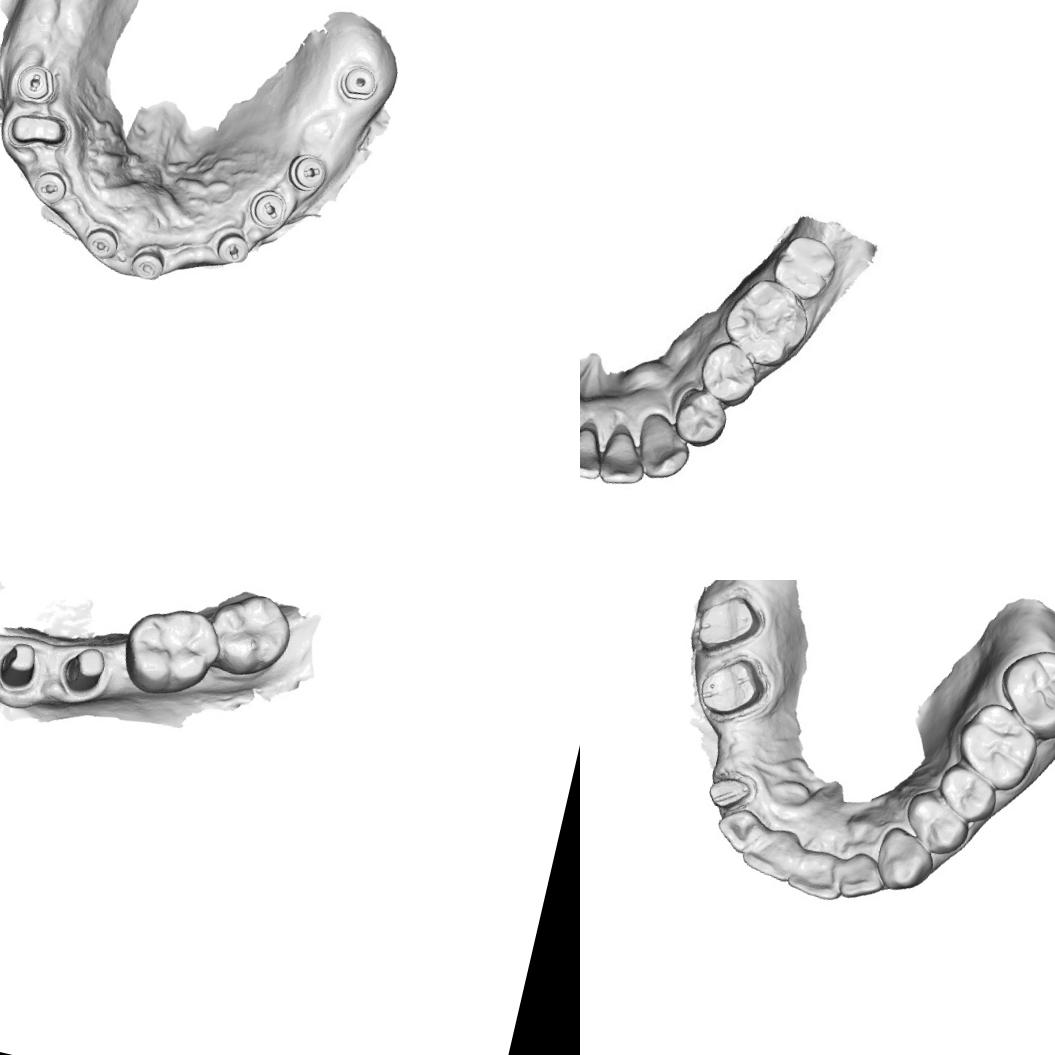abutment: (59, 643, 110, 700), (0, 636, 44, 693)
canine: (868, 822, 939, 899), (630, 409, 698, 486)
crown: (688, 586, 768, 663), (693, 651, 770, 726), (2, 105, 72, 160), (704, 770, 756, 816)
implant: (335, 60, 383, 106)
implant_minus: (11, 58, 62, 108), (244, 185, 292, 233), (283, 149, 332, 195), (124, 244, 170, 288), (79, 224, 124, 264), (28, 164, 70, 206), (210, 228, 253, 268)
incisor: (736, 820, 804, 885), (782, 844, 850, 905), (595, 428, 652, 492), (834, 847, 889, 905), (711, 800, 764, 856), (580, 424, 610, 483)
molar: (116, 595, 225, 708), (199, 582, 301, 686), (717, 272, 816, 374), (948, 694, 1046, 797), (989, 640, 1055, 748), (768, 231, 840, 305)
premolar: (898, 785, 978, 861), (694, 336, 763, 411), (932, 760, 1006, 827), (669, 384, 732, 452)
